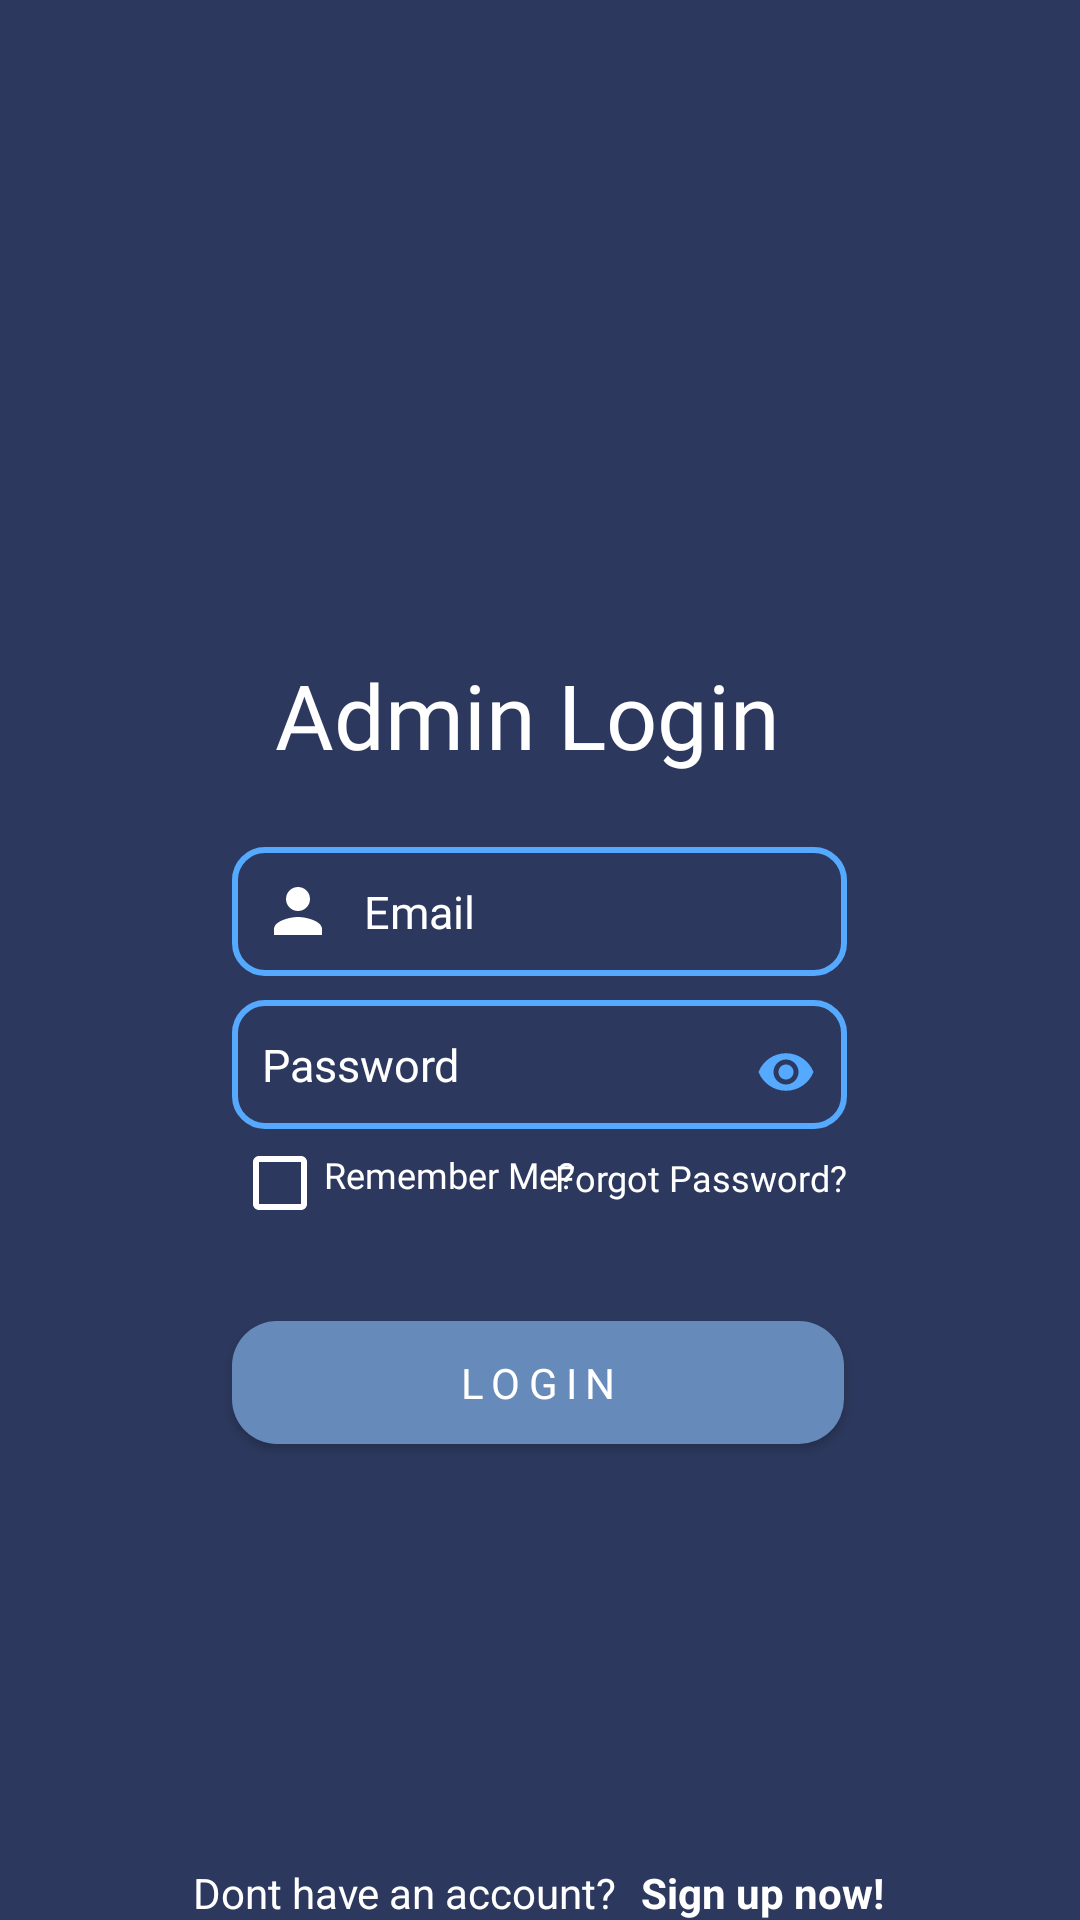

Screen size 1080w x 1920h. Icon name, then its center in pixels as (x,y):
visibility: (786,1072)
